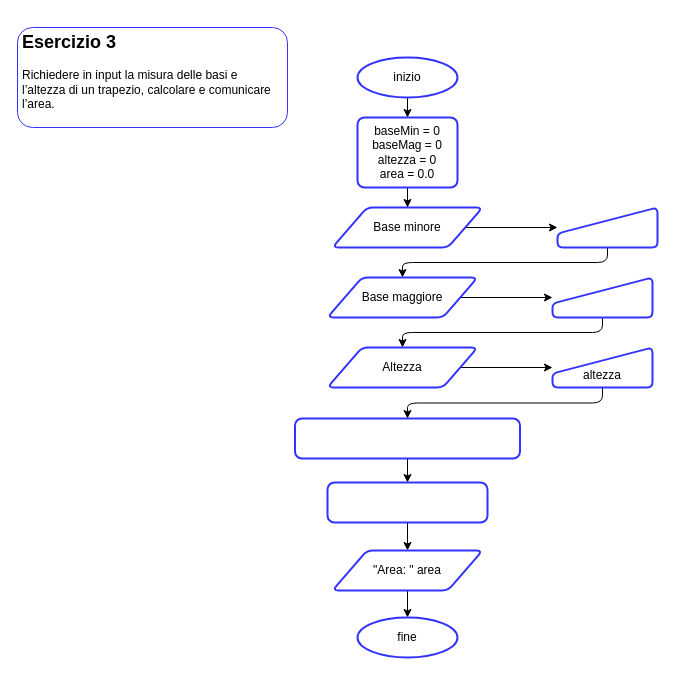
This 676x675 diagram has some shape labels left out. The centre of each missing label's shape, as x and y in pixels:
area = (baseMin+baseMag) * altezza / 2: point 407,438
area = lato * lato: point 407,502
baseMag: point 602,297
baseMin: point 607,227
